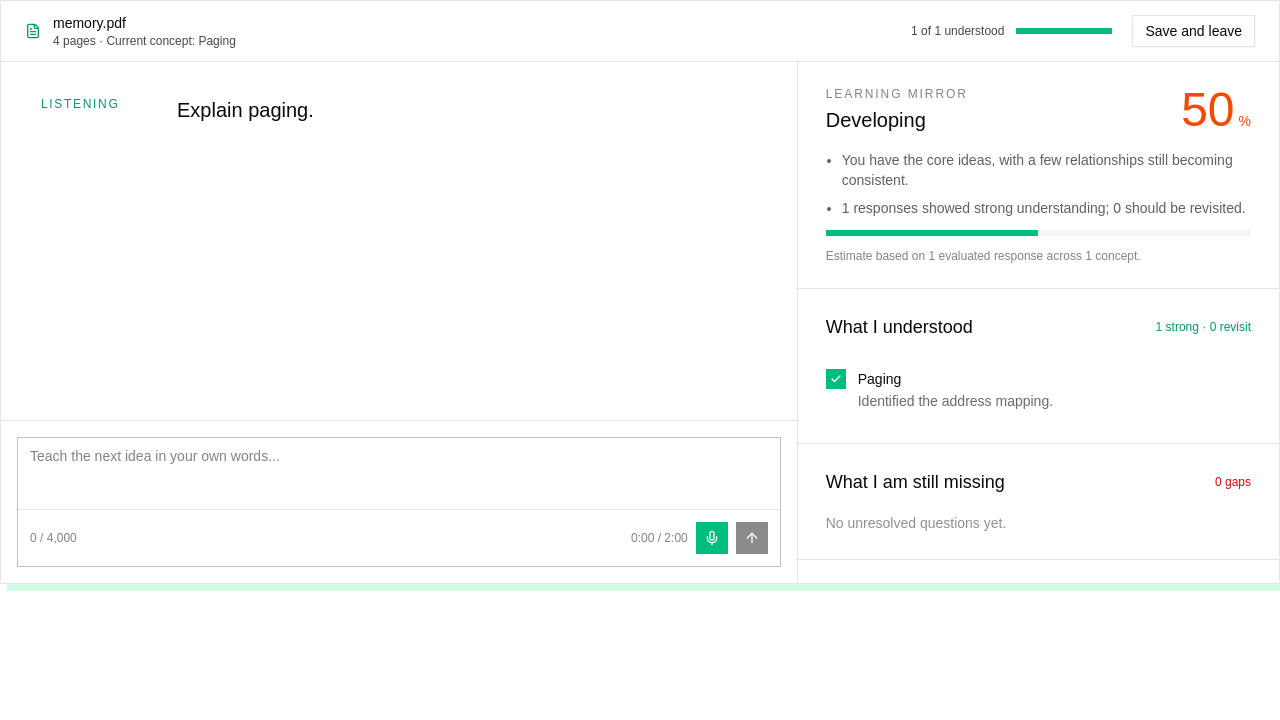
SessionWorkspace › reports visible session time when saving progress
Check: the text "Explain paging." is shown, box [177, 99, 314, 121]
What coordinates should you click on to do the following:
click the button "Save and leave"
I would click on:
 (1194, 31)
Its box is [1132, 15, 1255, 47].
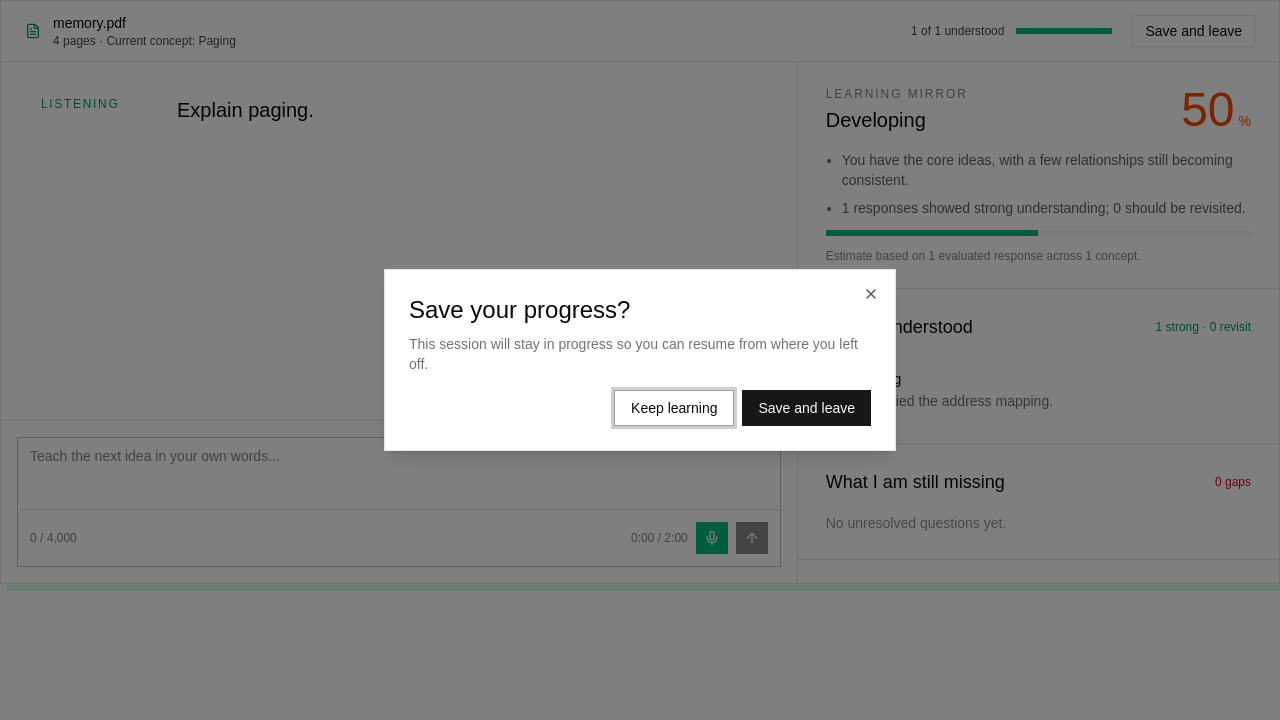
What coordinates should you click on to do the following:
click the button "Save and leave"
I would click on:
 (807, 408)
Its box is [742, 390, 871, 426].
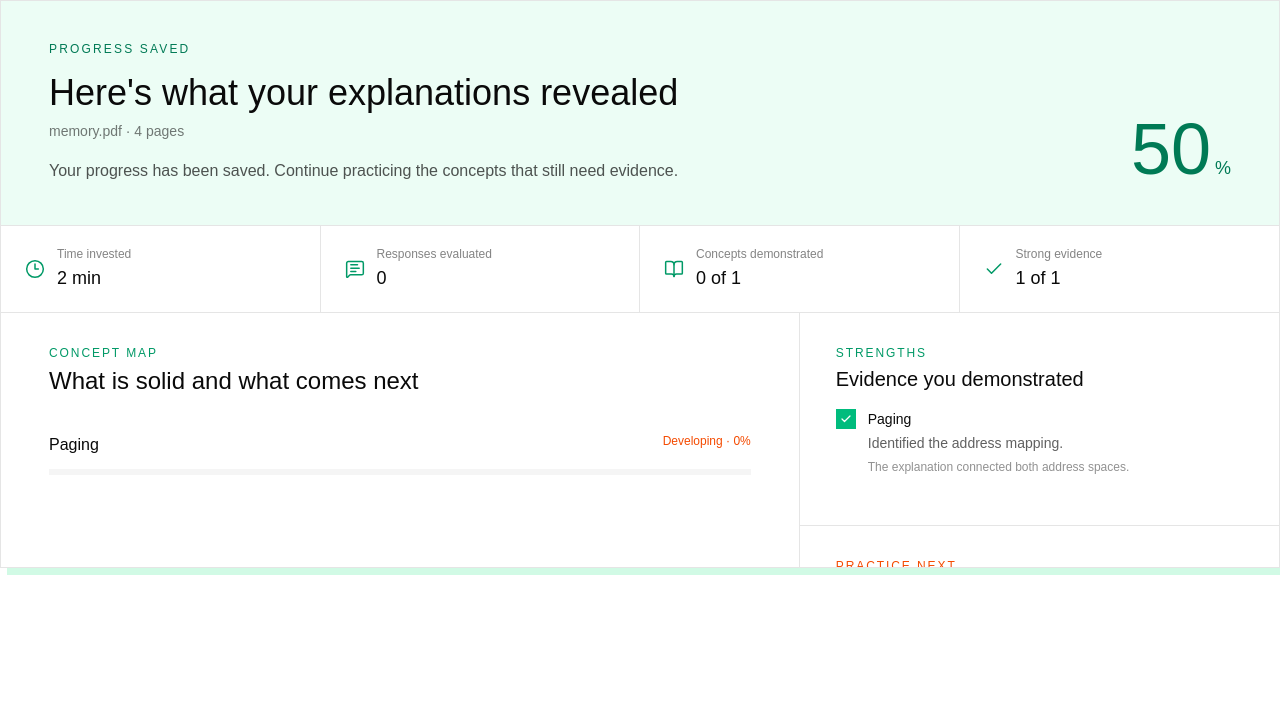
Check: the heading "Here's what your explanations revealed" is shown, box [49, 72, 678, 113]
